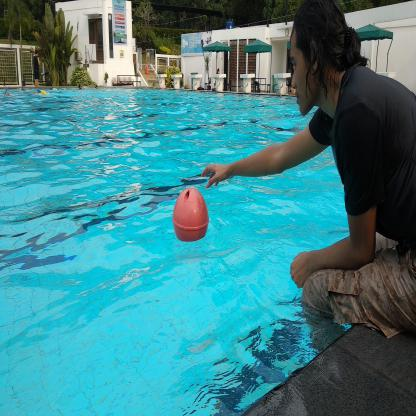red_buoy: (169, 184, 210, 249)
